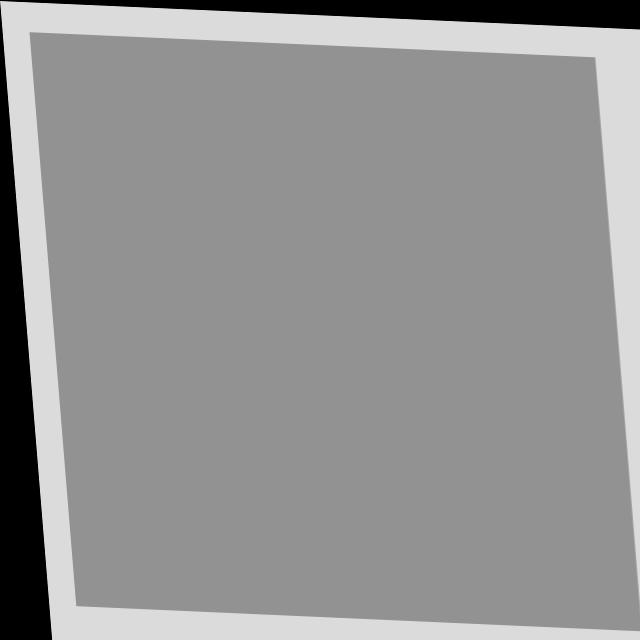qr_code: (29, 31, 631, 625)
